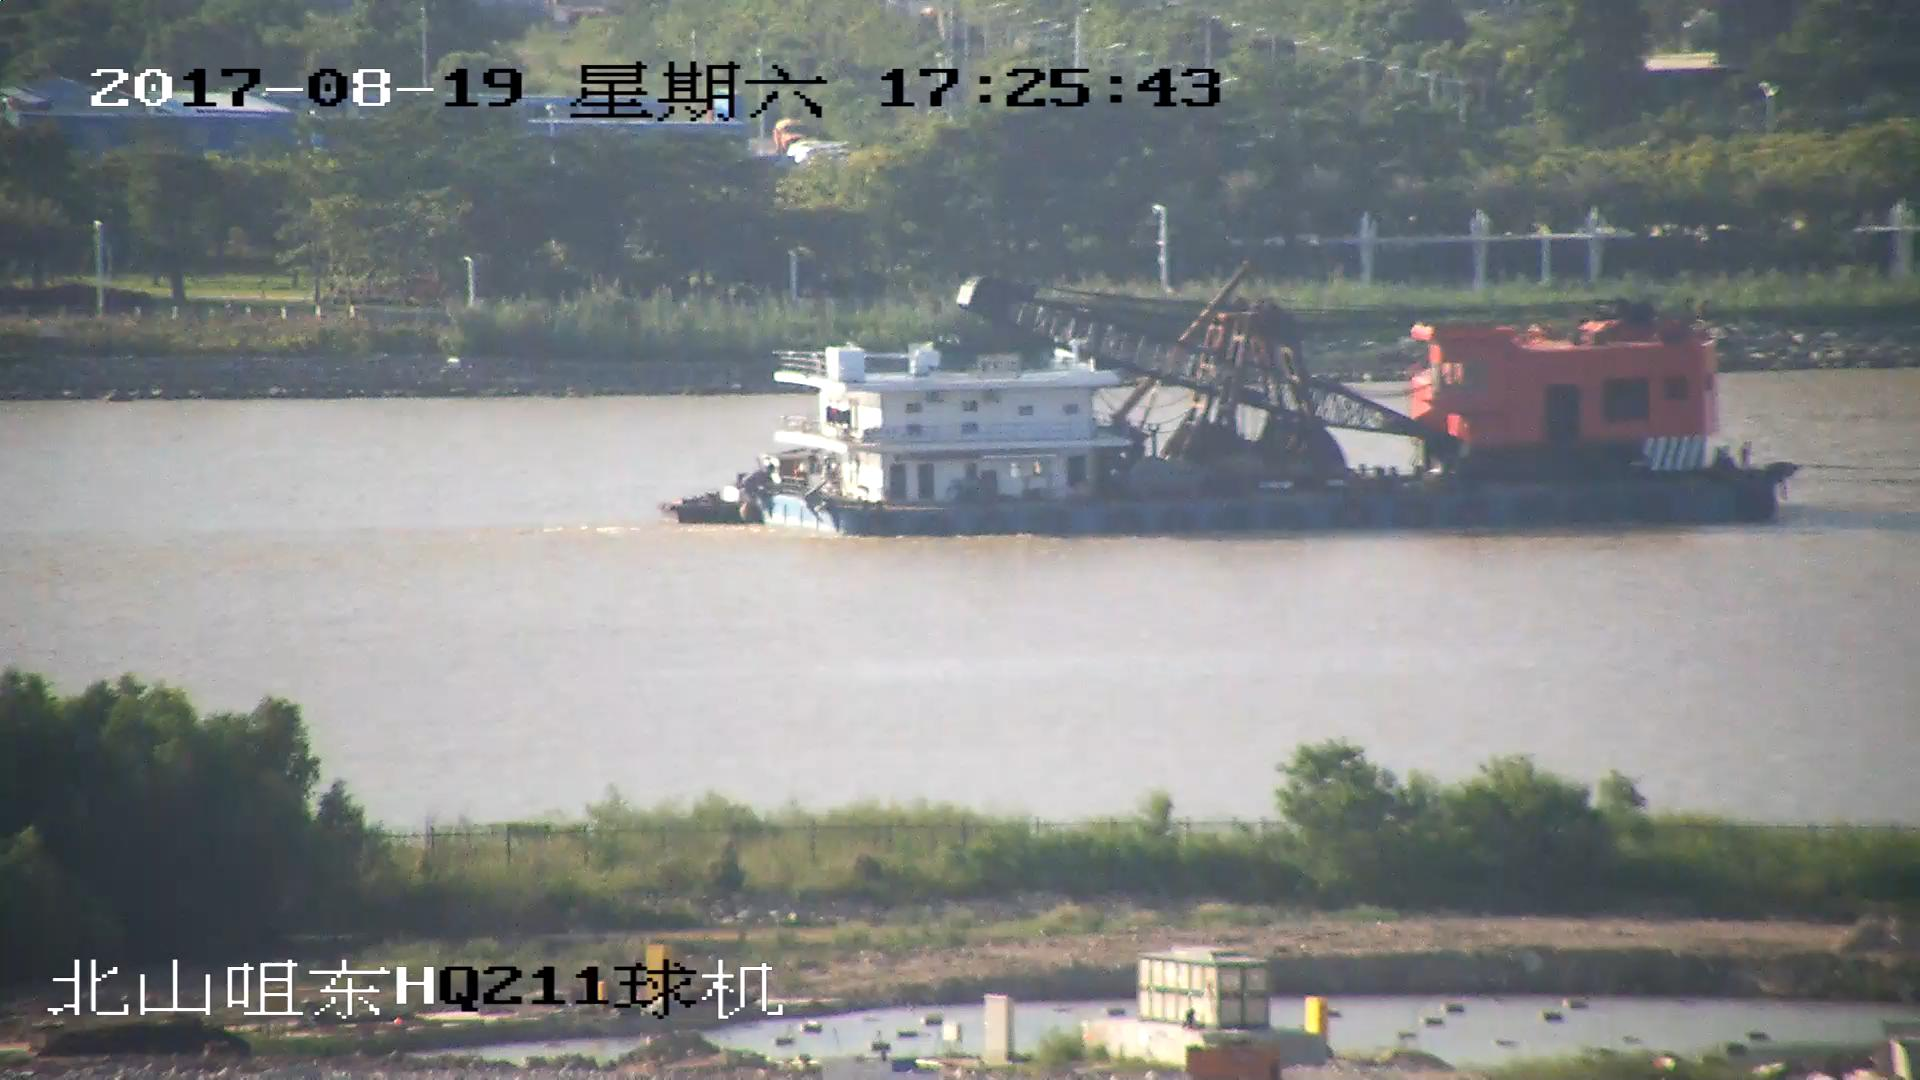fishing boat: (650, 258, 1792, 534)
